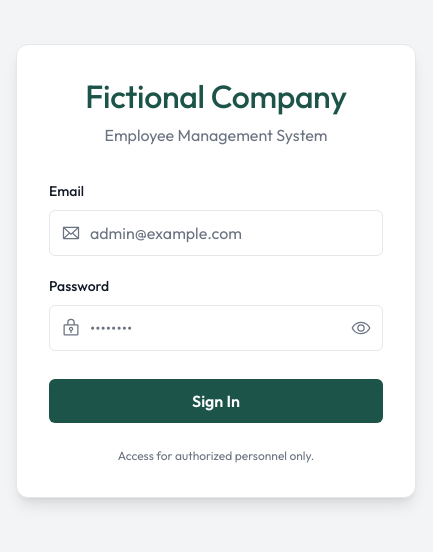
it: LoginPage › Form Submission › displays error message on login failure
Type "test@example.com" into the field labelled "Email". click: (216, 233)
box: x1=49 y1=210 x2=383 y2=256
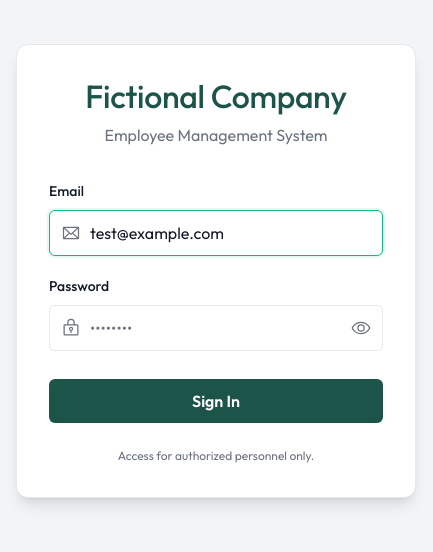
Type "wrongpassword" into the password field labelled "Password". click: (216, 328)
box: x1=49 y1=305 x2=383 y2=351
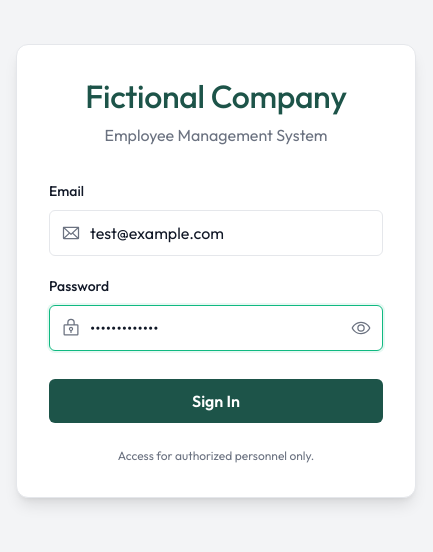
Click the button "Sign In". click: (216, 401)
box: x1=49 y1=379 x2=383 y2=423
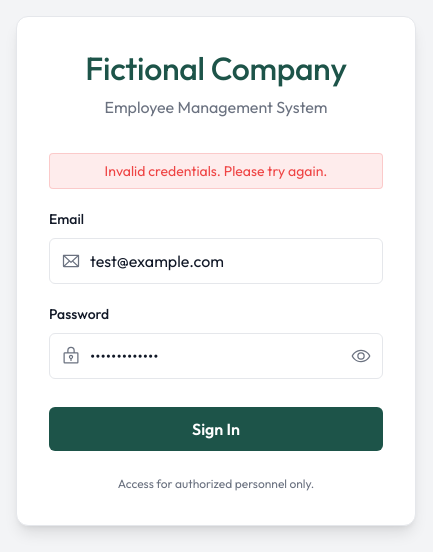
Result: the text "Invalid credentials. Please try again." is shown at x1=49 y1=153 x2=383 y2=189
